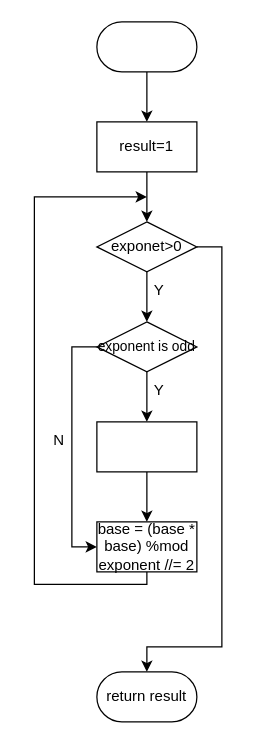
Some shapes in this 254 by 744 pixel diagram are drawn without their labels. Each missing label, with the centre of its shape:
"result = (result * base) % mod" goes at point 146,446.
"开始" goes at point 146,46.
